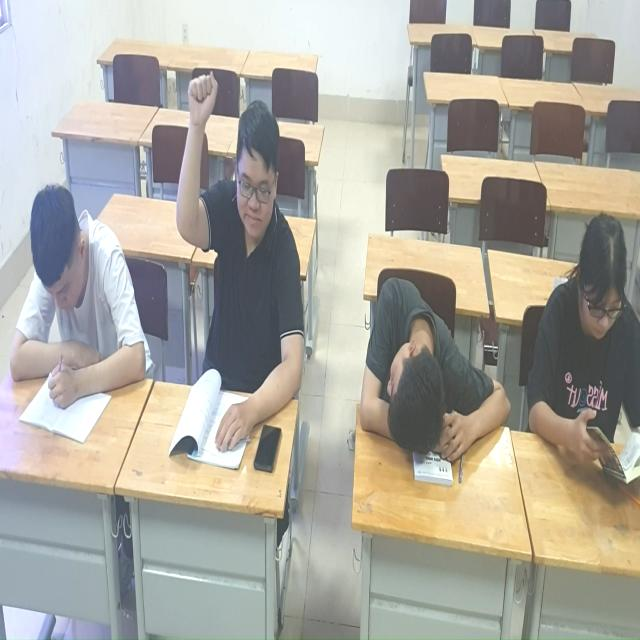raise_hand: (167, 65, 304, 460)
read: (7, 157, 155, 452), (514, 204, 640, 502)
sleep: (341, 250, 514, 494)
